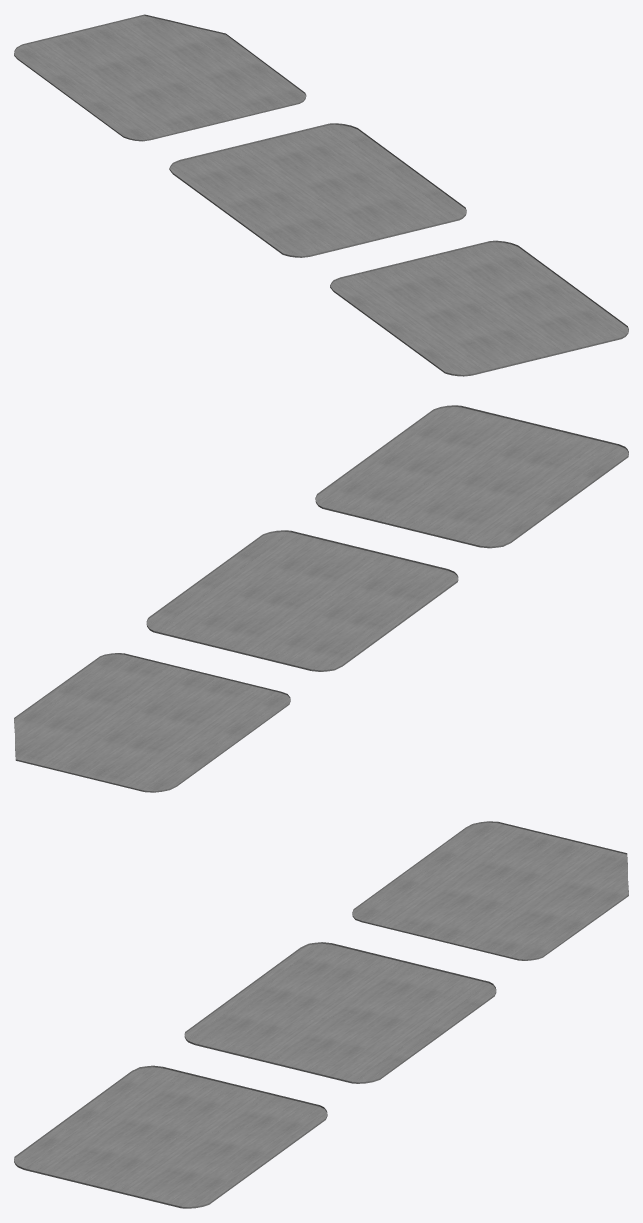
File: SueloPeliculaRellenos.fbx
3 views of the same model, one above another, from view 1: azimuth 30°, elevation 25°; view 2: azimuth 150°, elevation 25°; view 3: azimuth 330°, elevation 25° (orthographic). The views are drawn at different scales.
Visible parts, largest first — view 1: floor_under_film; view 2: floor_under_film; view 3: floor_under_film.
Boxes of the visible parts, <box> form: floor_under_film: <box>14,14,628,376</box>; floor_under_film: <box>14,405,628,792</box>; floor_under_film: <box>14,821,628,1208</box>.
Size of the model in its own units: 2.28 by 0.0194 by 9.65.
Materials: 1 (1 with a texture image).
